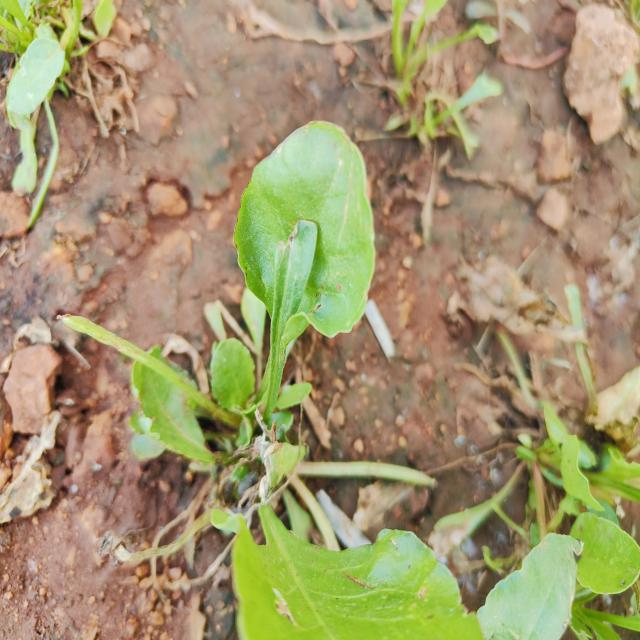leaves: (222, 105, 396, 546), (226, 450, 511, 640), (126, 334, 247, 531), (198, 320, 273, 442)
